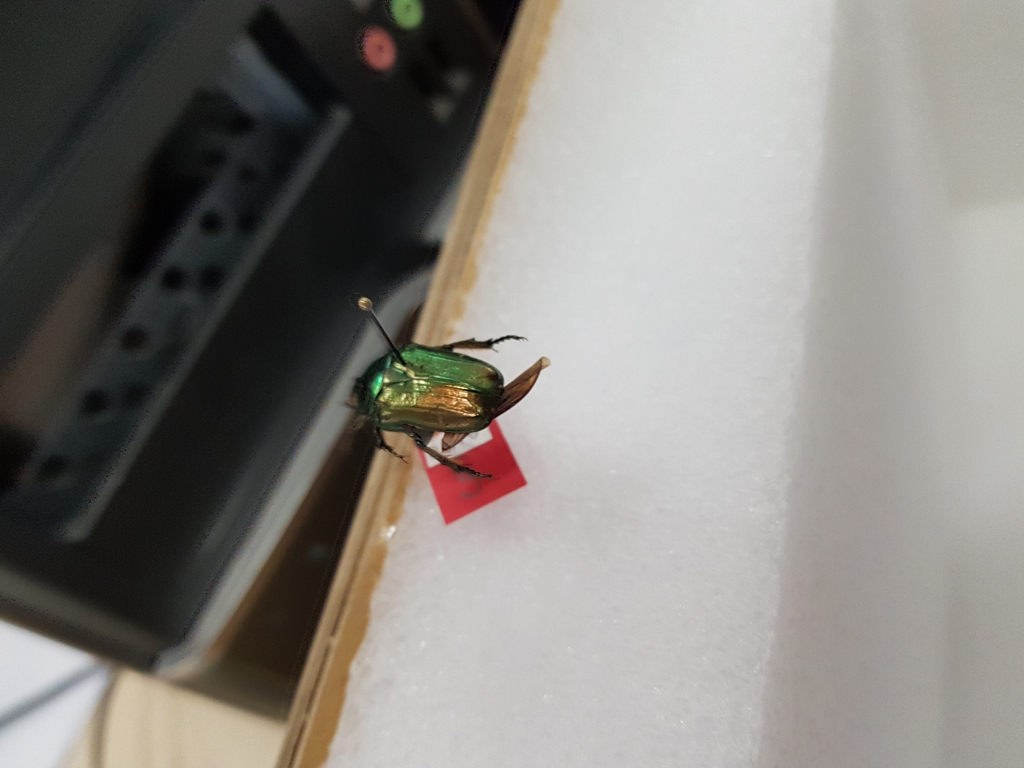Cetonia_kemali: (349, 327, 565, 487)
